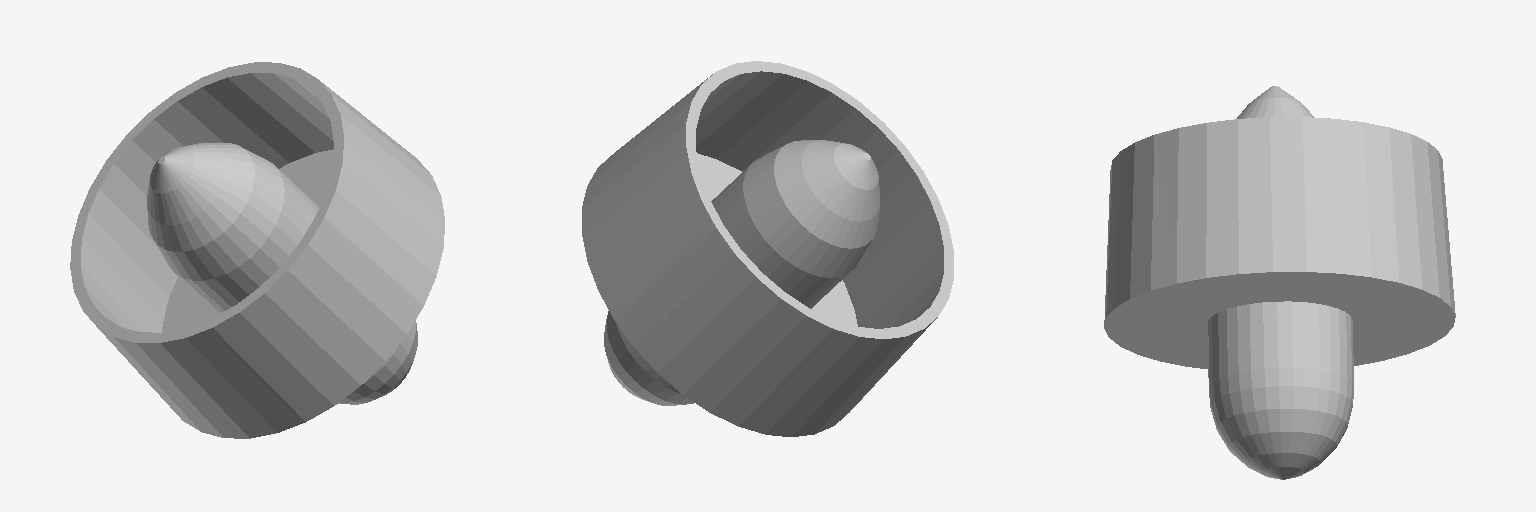
File: duct_bottom_retro_left_phy.obj
The picture shows the model from 3 angles: view 1: azimuth 30°, elevation 25°; view 2: azimuth 150°, elevation 25°; view 3: azimuth 270°, elevation 25°; orthographic projection.
Parts seen in each view (by area): view 1: duct_bottom_retro_left_phy; view 2: duct_bottom_retro_left_phy; view 3: duct_bottom_retro_left_phy.
Boxes of the visible parts, x1,y1,x2,y2 form: duct_bottom_retro_left_phy: [70, 62, 444, 438]; duct_bottom_retro_left_phy: [582, 61, 953, 436]; duct_bottom_retro_left_phy: [1104, 86, 1455, 479].
Size of the model in its own units: 0.0991 by 0.0999 by 0.0955.